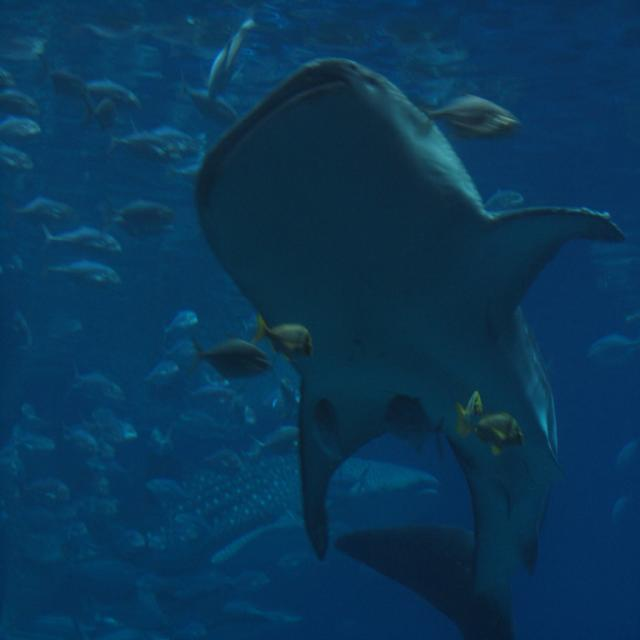Shark: (199, 49, 629, 574)
